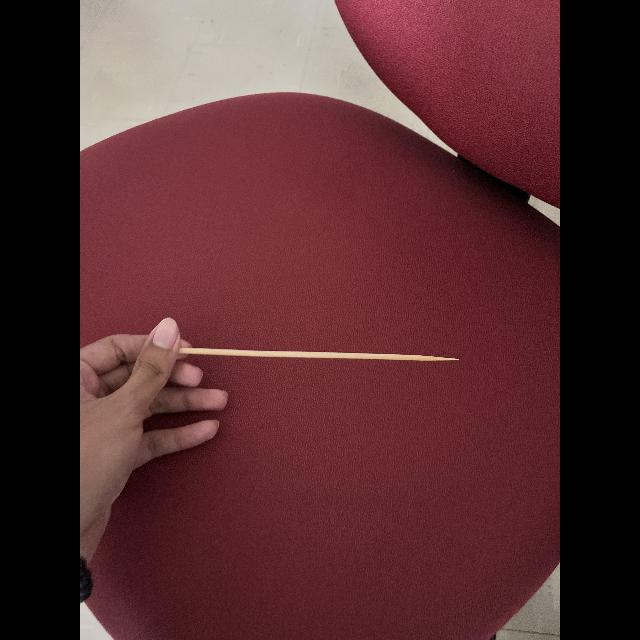stick: (171, 342, 461, 368)
